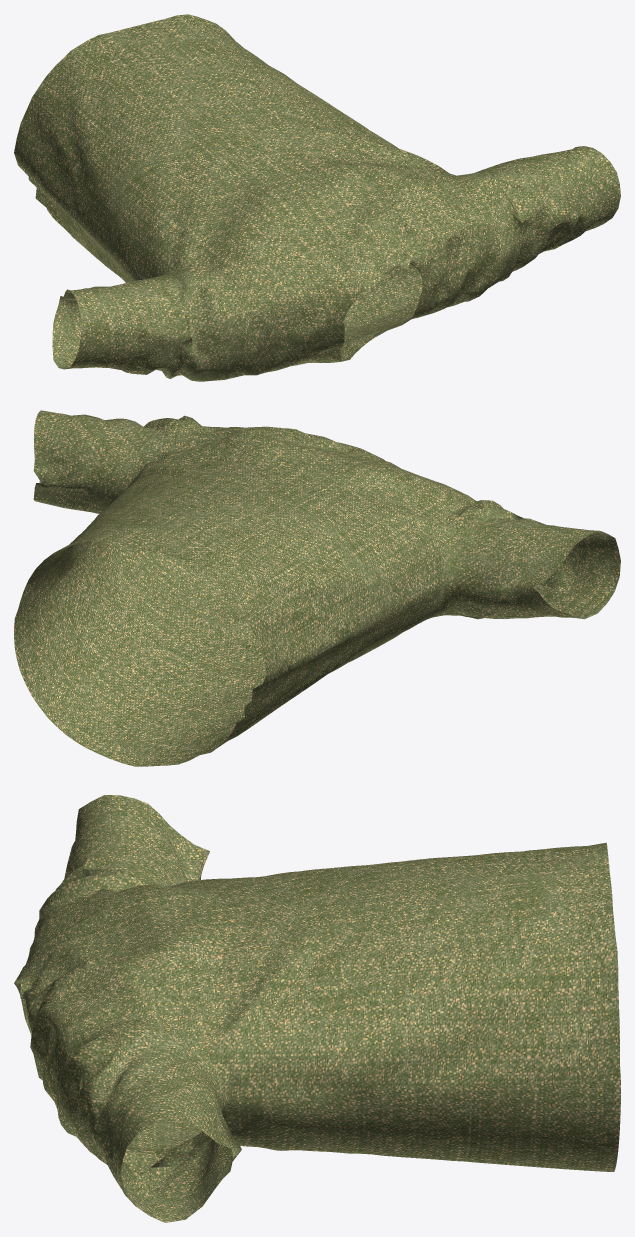
The model's file is tshirt.obj.
The picture shows the model from 3 angles, top to bottom: view 1: azimuth 30°, elevation 25°; view 2: azimuth 150°, elevation 25°; view 3: azimuth 270°, elevation 25°; orthographic projection. The views are drawn at different scales.
Size of the model in its own units: 0.7589 by 0.2838 by 0.5661.
1 material, 1 textured.
